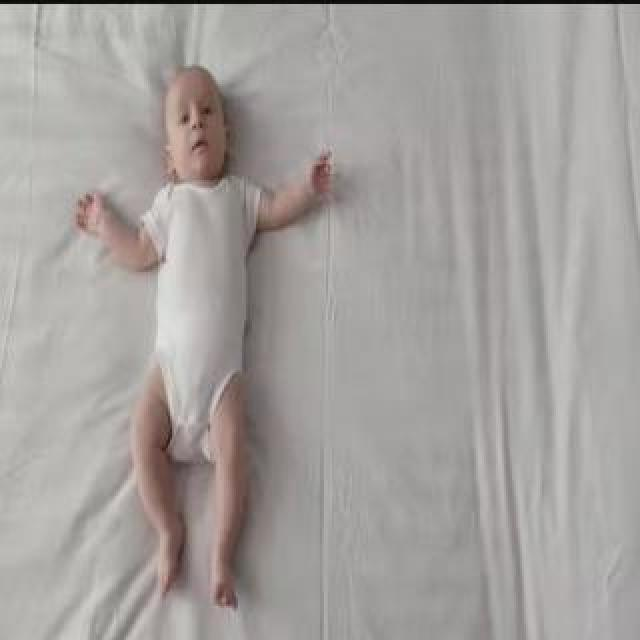baby: (76, 63, 332, 603)
